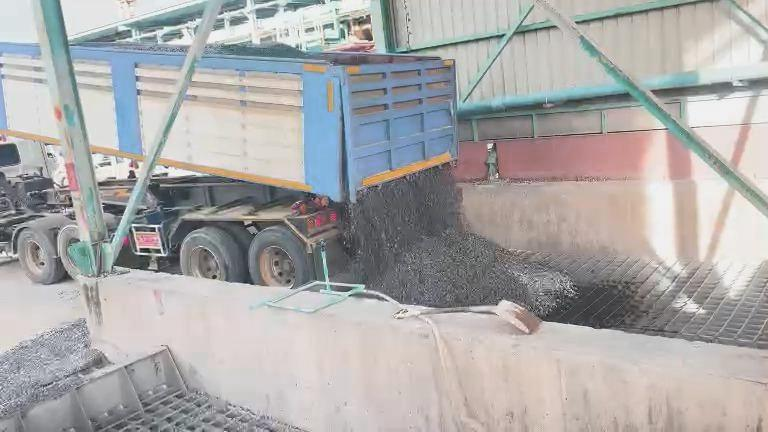gravel: (343, 168, 576, 315), (1, 319, 99, 417), (206, 42, 311, 58)
